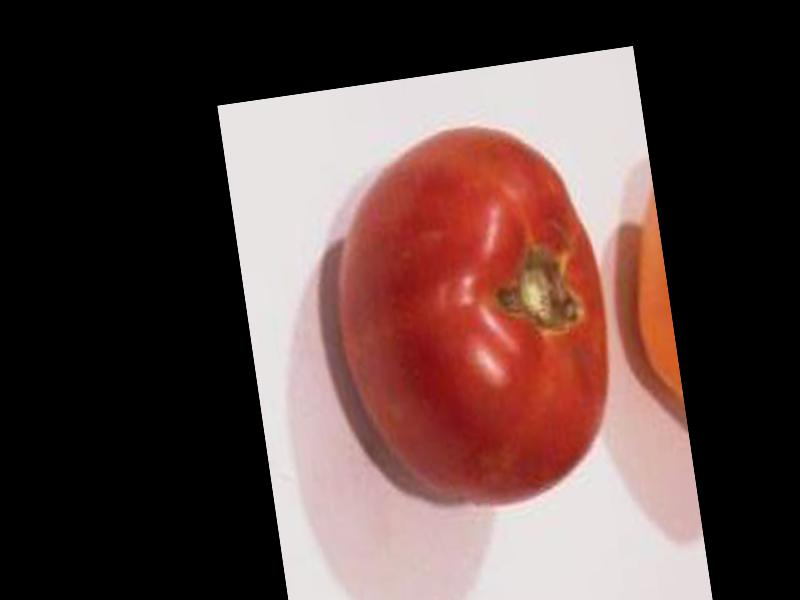Tomato: (318, 111, 628, 519)
